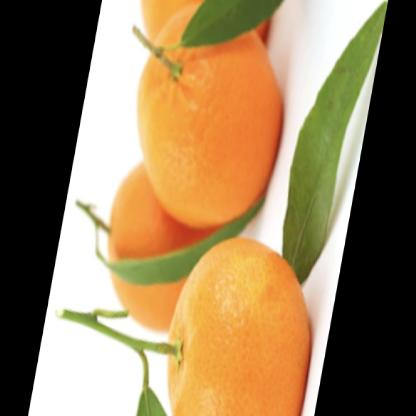fresh: (100, 1, 312, 416)
